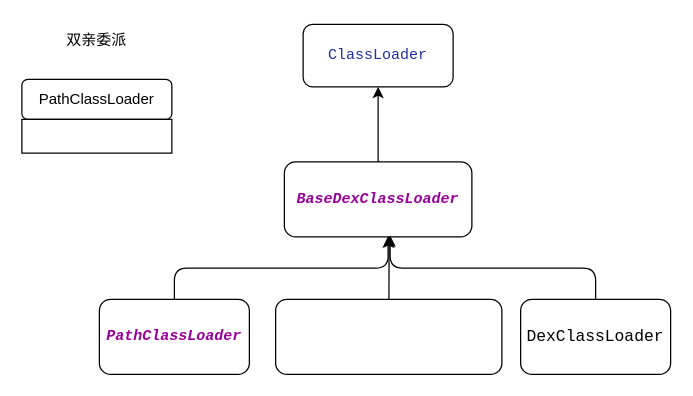
The diagram is 693 pixels wide and 396 high, and some of its shapes have lost their labels. The box of each missing label's shape, as (x1, y1, x2, y2) in pixels:
InMemoryDexClassLoader: (274, 298, 502, 374)
parent: (21, 118, 172, 153)
